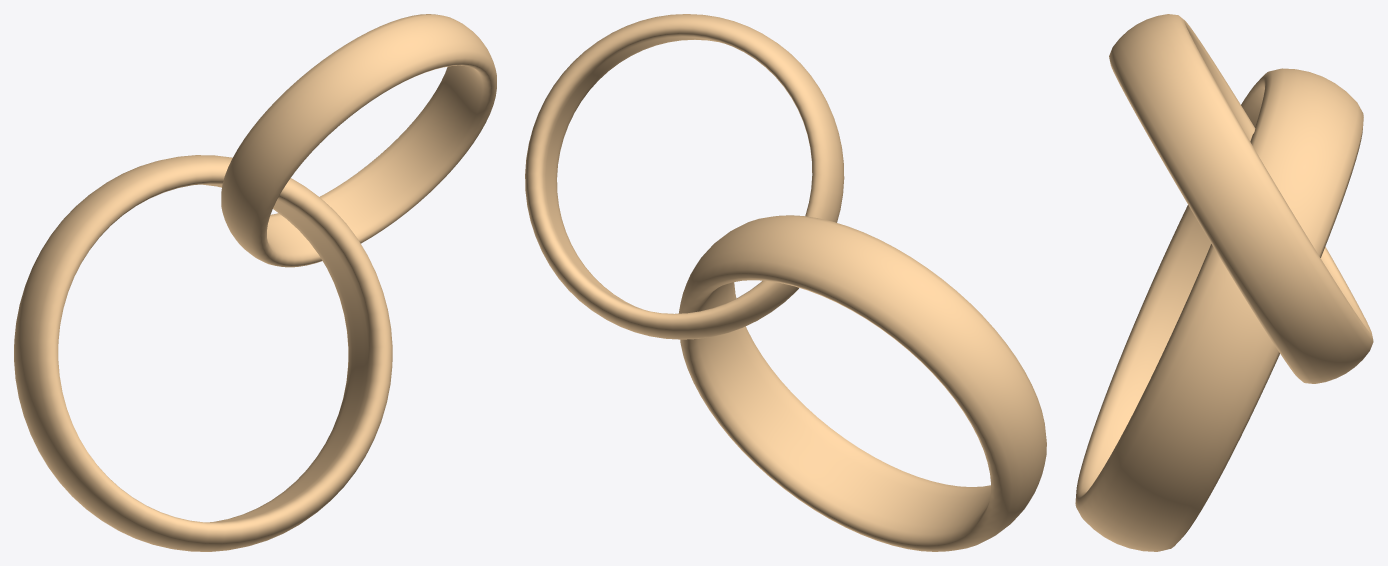
Rendered from Rings.glb.
The picture shows the model from 3 angles, left to right: view 1: azimuth 30°, elevation 25°; view 2: azimuth 150°, elevation 25°; view 3: azimuth 270°, elevation 25°; orthographic projection. The views are drawn at different scales.
Parts seen in each view (by area): view 1: ring, ring_small; view 2: ring, ring_small; view 3: ring, ring_small.
Boxes of the visible parts, left/top/right/bottom form: ring: left=14, top=155, right=392, bottom=551; ring_small: left=221, top=14, right=496, bottom=267; ring: left=678, top=215, right=1046, bottom=551; ring_small: left=525, top=14, right=844, bottom=339; ring: left=1075, top=68, right=1363, bottom=551; ring_small: left=1109, top=14, right=1373, bottom=383.
Bounding box in the file's own units: 0.2554 × 0.2432 × 0.1088.
